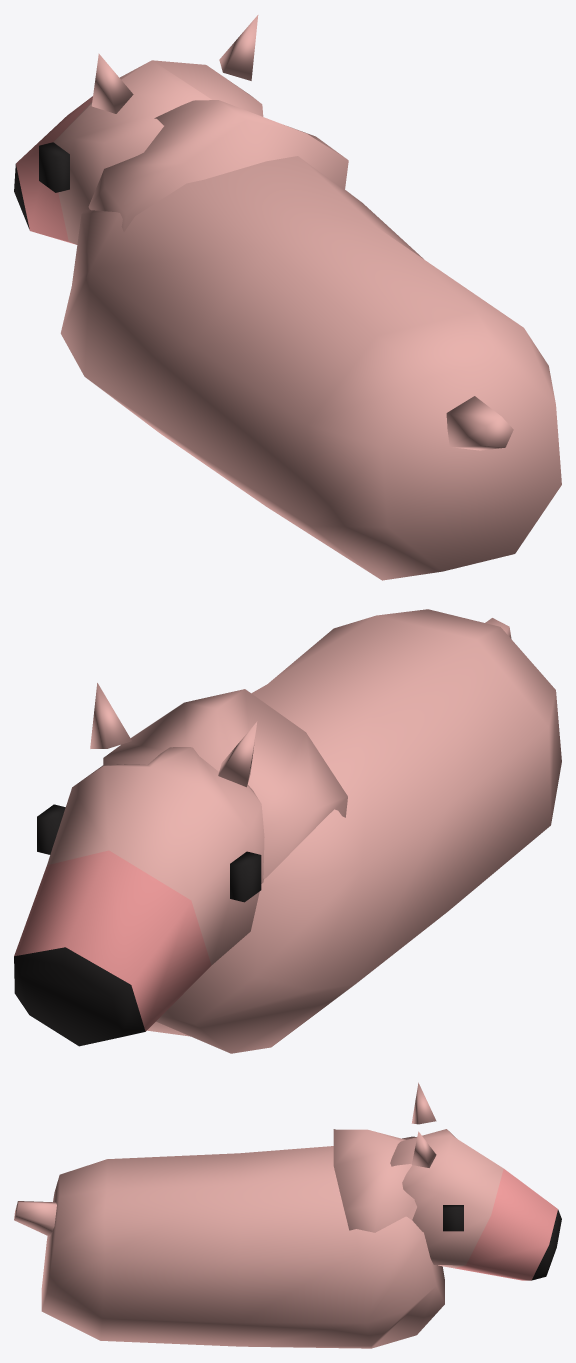
Rendered from animal_pig.obj.
The picture shows the model from 3 angles, top to bottom: view 1: azimuth 30°, elevation 25°; view 2: azimuth 150°, elevation 25°; view 3: azimuth 270°, elevation 25°; orthographic projection. The views are drawn at different scales.
Visible parts, largest first — view 1: animal_pig_component_01_stage_1, animal_pig_component_03_stage_1, animal_pig_component_02_stage_1, animal_pig_component_08_stage_1, animal_pig_component_06_stage_1, animal_pig_component_07_stage_1, animal_pig_component_04_stage_1; view 2: animal_pig_component_01_stage_1, animal_pig_component_03_stage_1, animal_pig_component_02_stage_1, animal_pig_component_07_stage_1, animal_pig_component_04_stage_1, animal_pig_component_06_stage_1, animal_pig_component_05_stage_1; view 3: animal_pig_component_01_stage_1, animal_pig_component_03_stage_1, animal_pig_component_02_stage_1, animal_pig_component_08_stage_1, animal_pig_component_05_stage_1, animal_pig_component_06_stage_1, animal_pig_component_07_stage_1.
Part boxes in pixels (bbox=[...]): animal_pig_component_01_stage_1: bbox=[60, 156, 561, 580]; animal_pig_component_03_stage_1: bbox=[14, 60, 263, 244]; animal_pig_component_02_stage_1: bbox=[88, 100, 348, 231]; animal_pig_component_08_stage_1: bbox=[446, 396, 513, 450]; animal_pig_component_06_stage_1: bbox=[91, 53, 133, 113]; animal_pig_component_07_stage_1: bbox=[219, 15, 258, 80]; animal_pig_component_04_stage_1: bbox=[39, 142, 69, 192]; animal_pig_component_01_stage_1: bbox=[147, 609, 561, 1053]; animal_pig_component_03_stage_1: bbox=[14, 747, 264, 1046]; animal_pig_component_02_stage_1: bbox=[103, 689, 347, 879]; animal_pig_component_07_stage_1: bbox=[90, 683, 131, 748]; animal_pig_component_04_stage_1: bbox=[230, 851, 261, 902]; animal_pig_component_06_stage_1: bbox=[218, 721, 257, 787]; animal_pig_component_05_stage_1: bbox=[37, 804, 65, 854]; animal_pig_component_01_stage_1: bbox=[41, 1146, 444, 1348]; animal_pig_component_03_stage_1: bbox=[390, 1129, 561, 1280]; animal_pig_component_02_stage_1: bbox=[333, 1129, 416, 1232]; animal_pig_component_08_stage_1: bbox=[14, 1201, 56, 1236]; animal_pig_component_05_stage_1: bbox=[443, 1205, 463, 1231]; animal_pig_component_06_stage_1: bbox=[411, 1082, 436, 1124]; animal_pig_component_07_stage_1: bbox=[411, 1131, 436, 1167].
Bounding box in the file's own units: 0.4144 × 0.5221 × 1.15.
